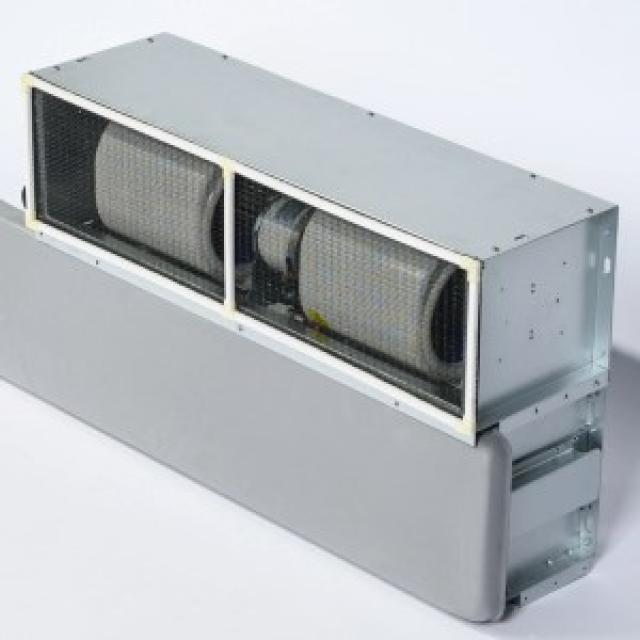electronics: (0, 32, 612, 619), (96, 119, 222, 279)
